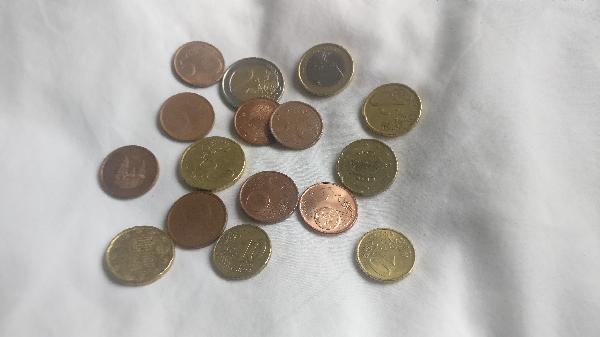Fifty Cent: (181, 137, 245, 189)
Five Cent: (166, 192, 230, 249), (100, 146, 160, 204), (238, 170, 299, 225), (303, 179, 356, 235), (160, 91, 217, 140), (271, 100, 324, 151), (171, 40, 225, 84), (234, 96, 281, 144)
One Euro: (297, 42, 356, 97)
Ten Cent: (349, 231, 420, 281), (214, 224, 273, 281)
Twenty Cent: (104, 225, 174, 283), (361, 83, 426, 137), (337, 138, 399, 194)
Two Euro: (219, 59, 287, 106)
